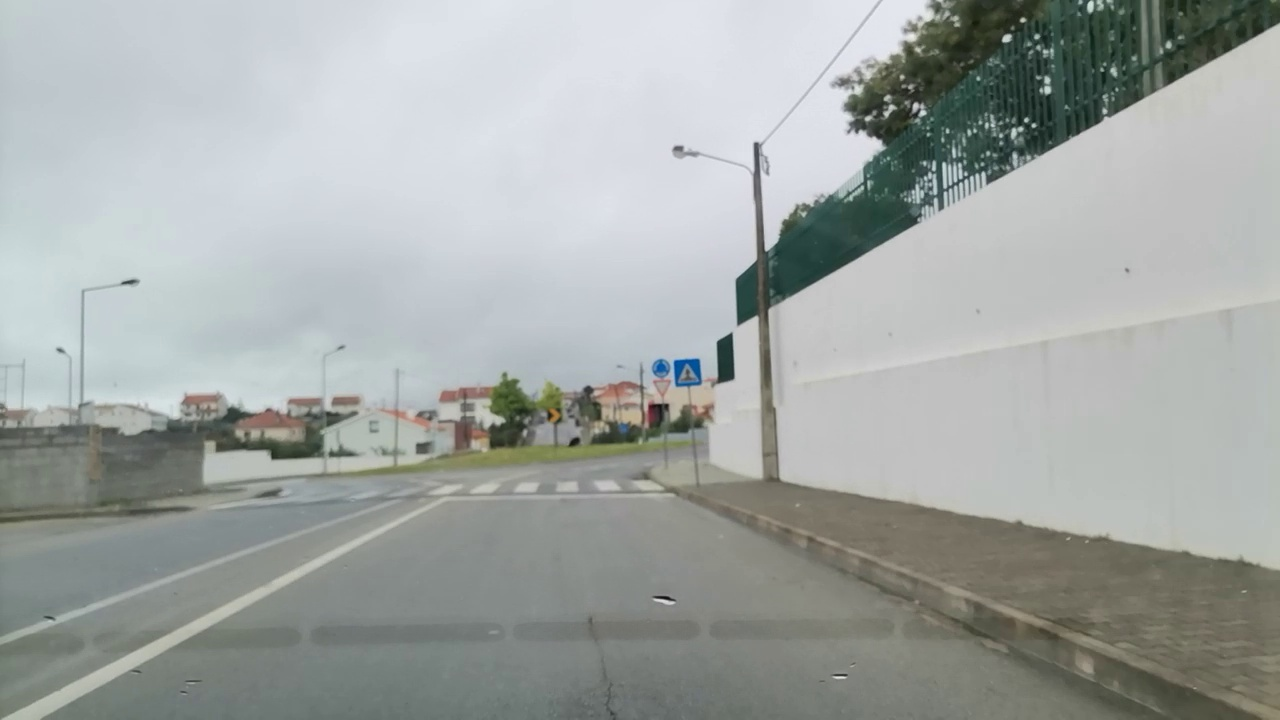Stairs: (282, 477, 665, 504)
